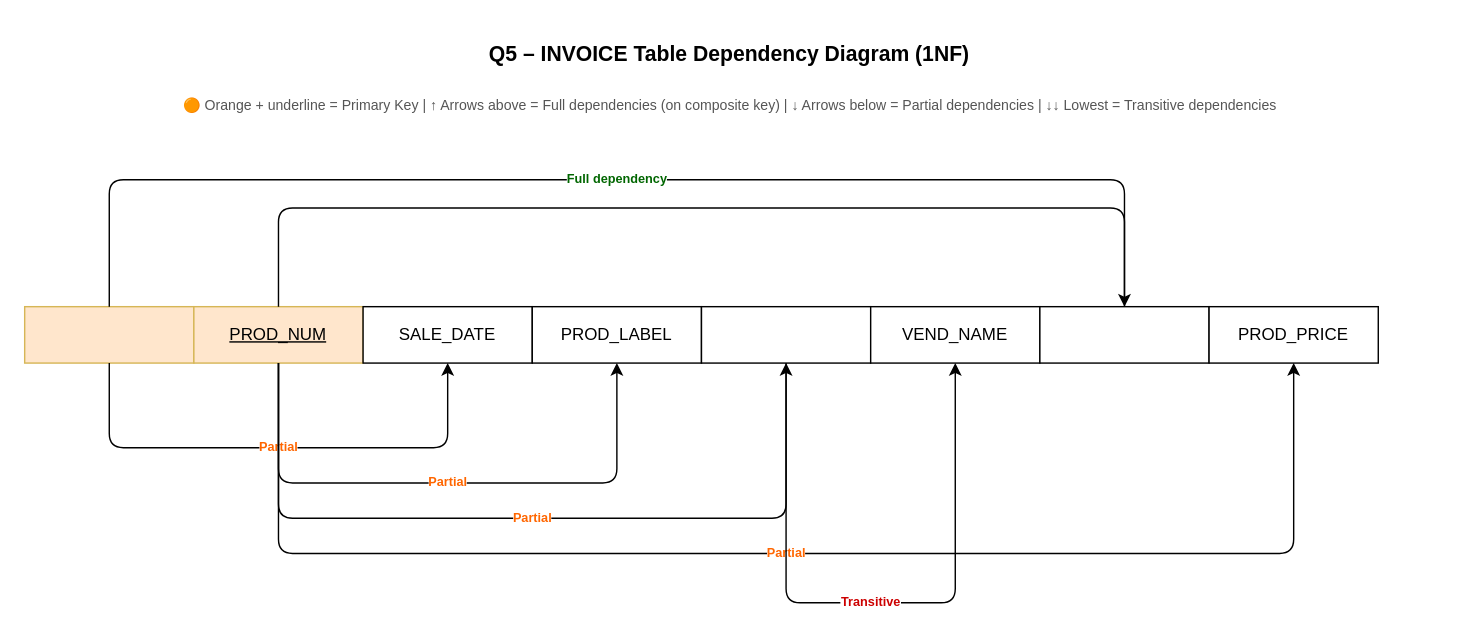
The diagram is 1459 pixels wide and 639 high, and some of its shapes have lost their labels. The box of each missing label's shape, as (x1, y1, x2, y2) in pixels:
INV_NUM: (23, 305, 194, 363)
QUANT_SOLD: (1038, 305, 1209, 363)
VEND_CODE: (700, 305, 871, 363)
